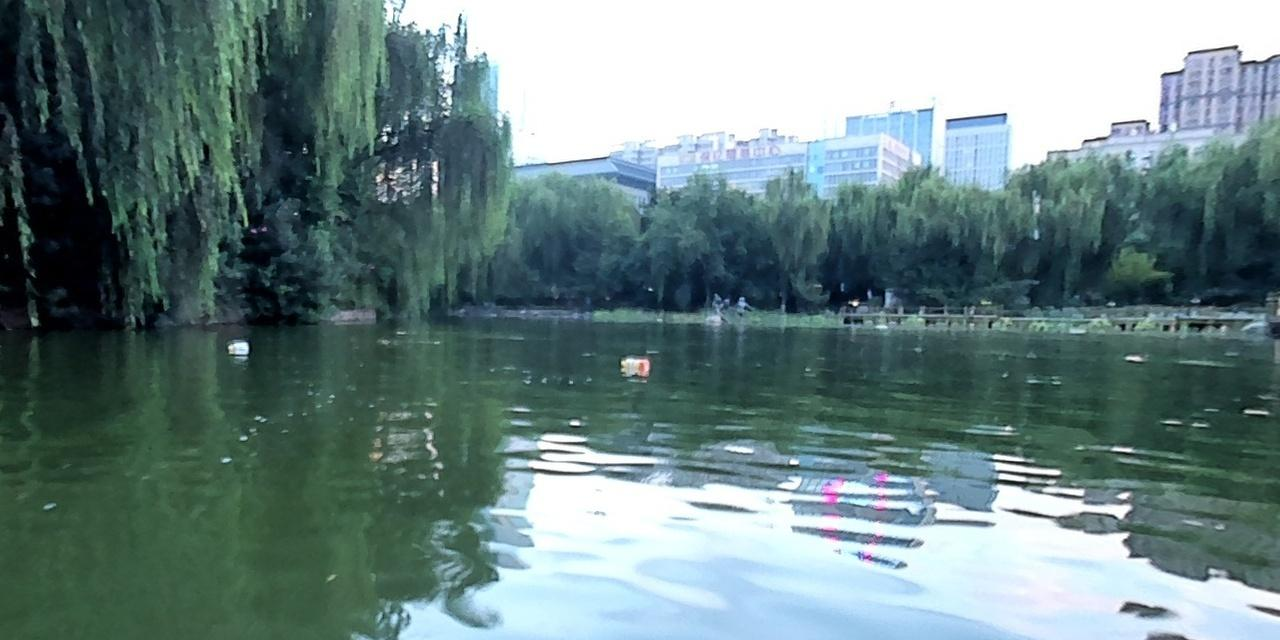bottle: (621, 356, 649, 371), (225, 340, 248, 353)
